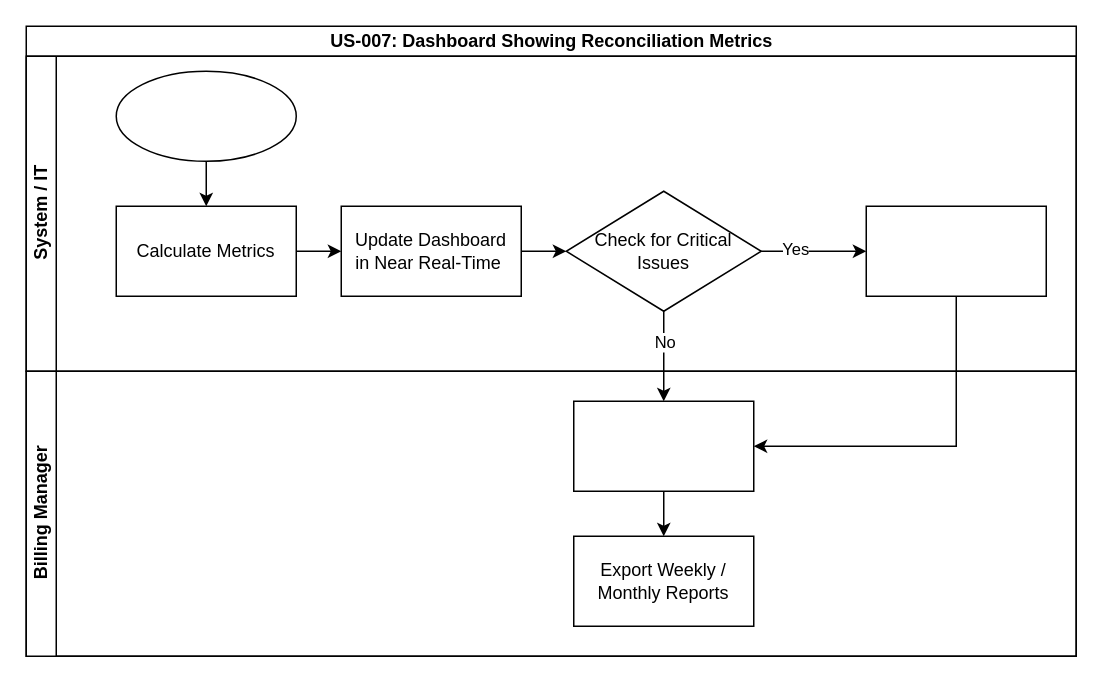
The diagram is 1103 pixels wide and 683 high, and some of its shapes have lost their labels. Here are the shapes that lost their labels. From the top down, the centre of each, then its label:
point 205,115: Daily Reconciliation Complete
point 955,250: Highlight Issue Visually
point 663,445: View Dashboard & Metrics Monitor Performance Trends / Exceptions
